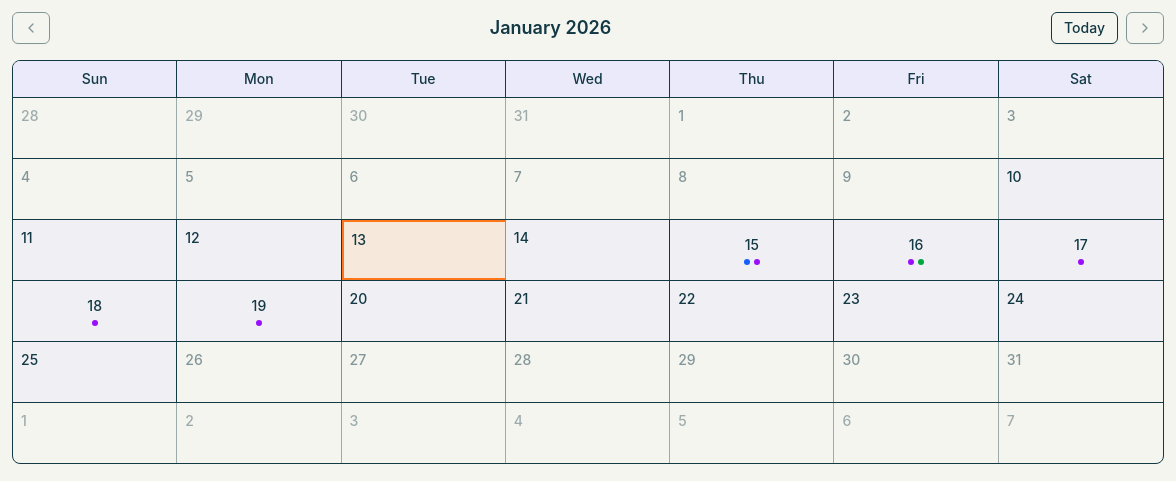
MonthView › Interactions › hides "Add New Item" when canEdit is false
The image size is (1176, 481).
Click the button "15".
click(752, 250)  # box [670,220,834,280]
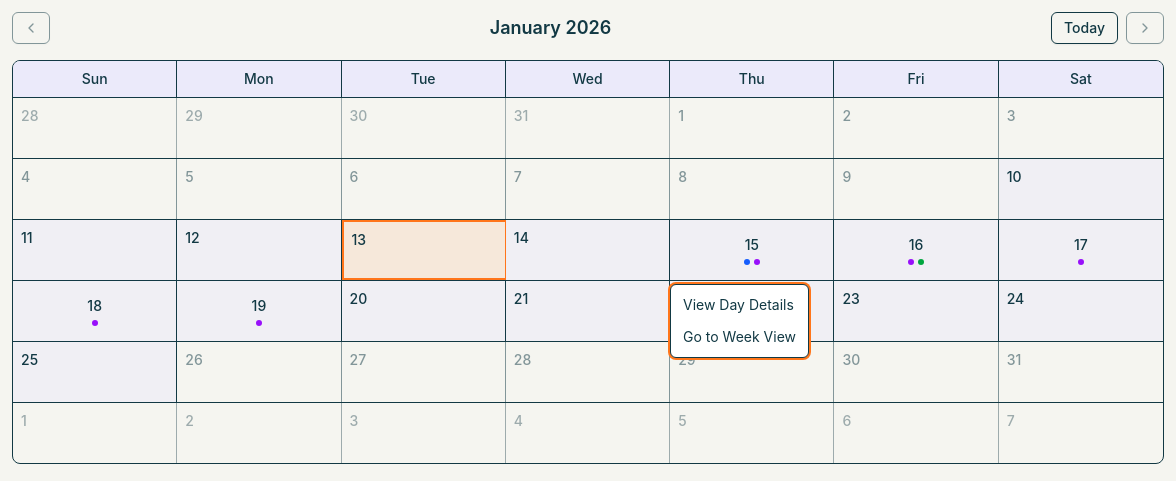
Result: the menu item "View Day Details" is shown at [683,296,794,313]
